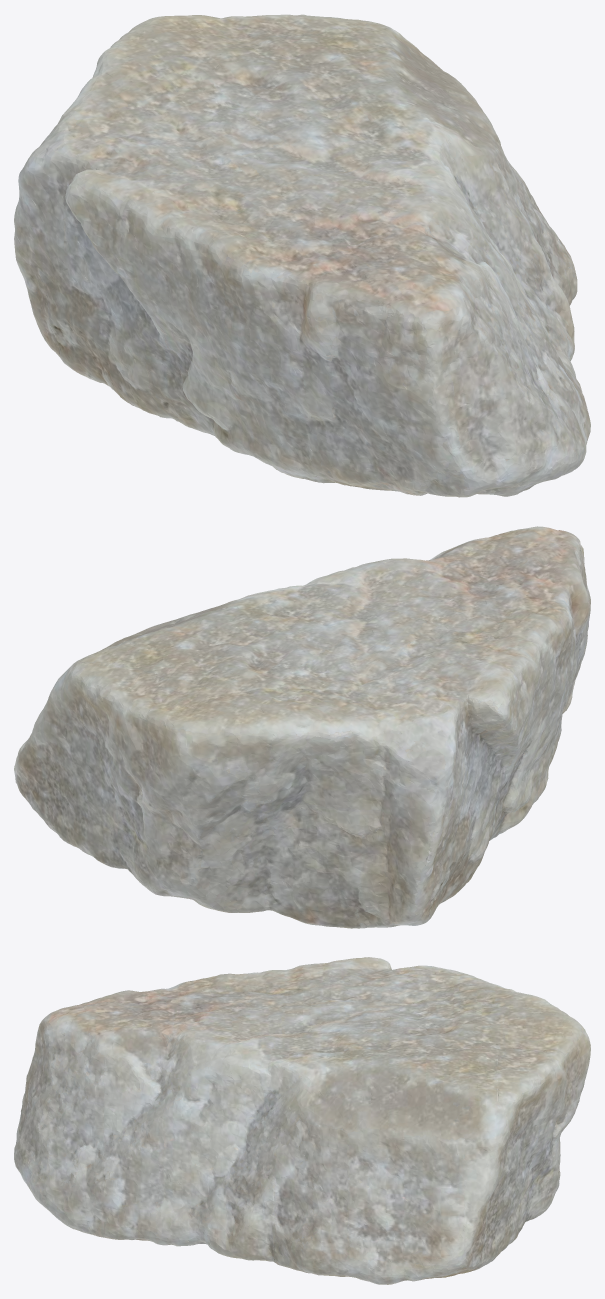
Rendered from quartzite.glb.
3 views of the same model, one above another, from view 1: azimuth 30°, elevation 25°; view 2: azimuth 150°, elevation 25°; view 3: azimuth 270°, elevation 25° (orthographic). The views are drawn at different scales.
Parts seen in each view (by area): view 1: Object_2; view 2: Object_2; view 3: Object_2.
Part boxes in pixels (x1,y1,x2,y2): Object_2: (14, 14, 590, 497); Object_2: (14, 526, 590, 928); Object_2: (14, 957, 590, 1284).
Bounding box in the file's own units: 0.0754 × 0.037 × 0.1.
Materials: 1 (1 with a texture image).
